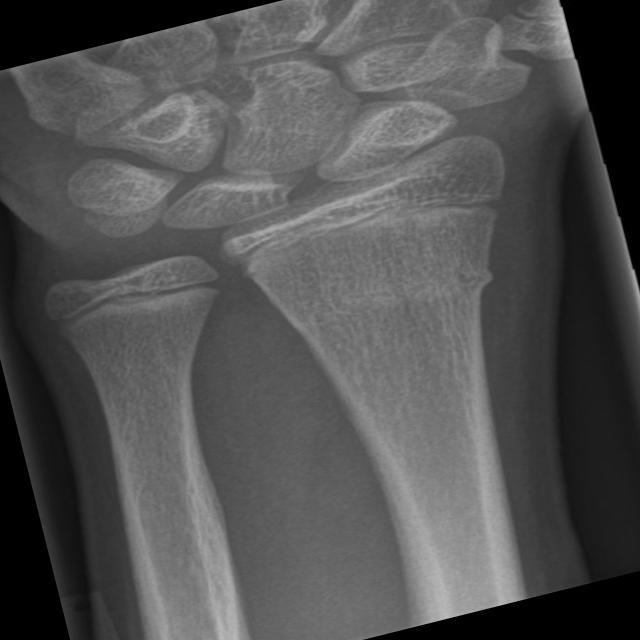fracture: (198, 140, 542, 292), (19, 247, 247, 355), (312, 228, 538, 334)
